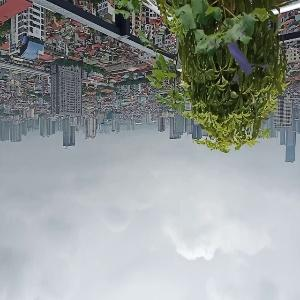drone: (195, 17, 279, 101)
